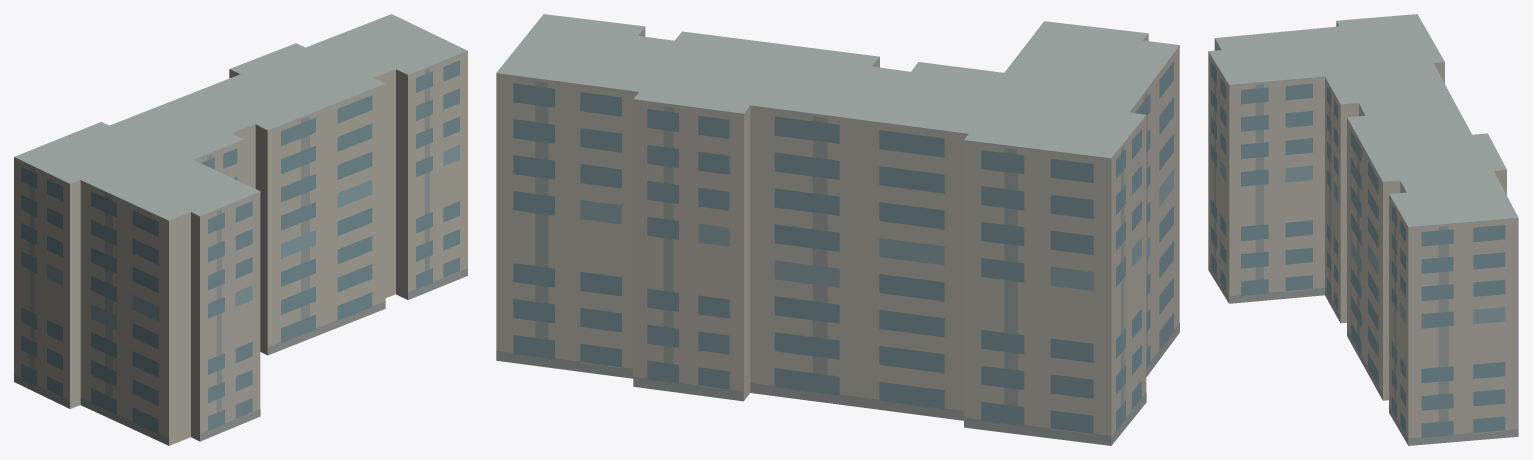
The model's file is survey-upis-32965260.glb.
The picture shows the model from 3 angles, left to right: view 1: azimuth 30°, elevation 25°; view 2: azimuth 150°, elevation 25°; view 3: azimuth 270°, elevation 25°; orthographic projection. The views are drawn at different scales.
Parts seen in each view (by area): view 1: survey-upis-32965260.tmp; view 2: survey-upis-32965260.tmp; view 3: survey-upis-32965260.tmp.
Part boxes in pixels (x1=…): survey-upis-32965260.tmp: x1=14, y1=14, x2=467, y2=445; survey-upis-32965260.tmp: x1=496, y1=14, x2=1179, y2=445; survey-upis-32965260.tmp: x1=1208, y1=14, x2=1518, y2=445.
Size of the model in its own units: 50.94 by 24.4 by 31.36.
